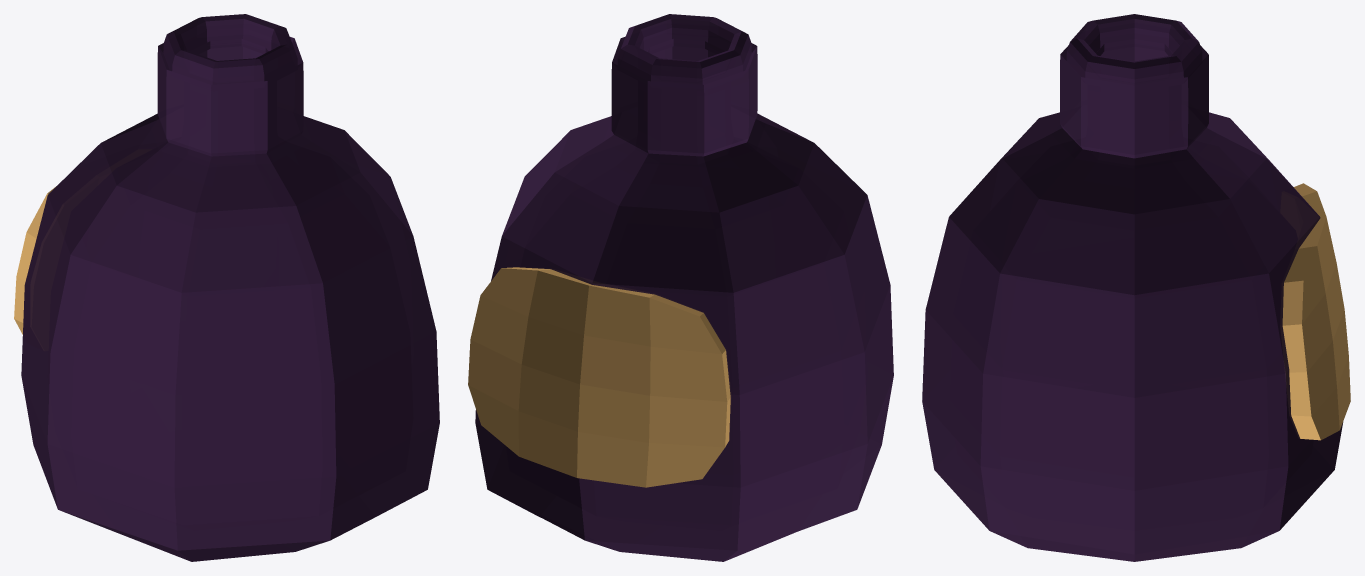
The model's file is Vessel.fbx.
The picture shows the model from 3 angles, left to right: view 1: azimuth 30°, elevation 25°; view 2: azimuth 150°, elevation 25°; view 3: azimuth 270°, elevation 25°; orthographic projection.
Parts seen in each view (by area): view 1: Node 0; view 2: Node 0; view 3: Node 0.
Boxes of the visible parts, bbox=[...] form: Node 0: bbox=[14, 14, 439, 561]; Node 0: bbox=[468, 14, 893, 561]; Node 0: bbox=[922, 14, 1350, 561].
Size of the model in its own units: 0.2253 by 0.2766 by 0.2232.
